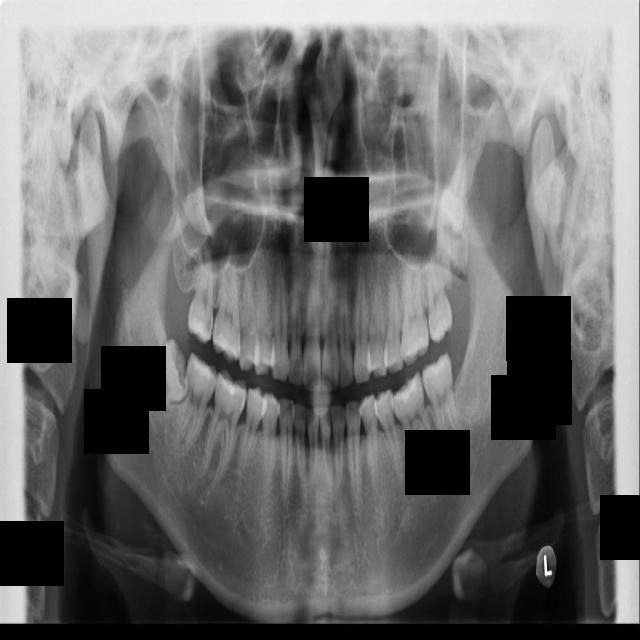52: (206, 318, 211, 332)
73: (620, 592, 628, 602)
BioHorizons Implant: (421, 233, 455, 345)
BioLife Implant: (439, 155, 466, 236)
Blue Sky Bio Implant: (419, 351, 464, 453)
Caries: (186, 237, 218, 345)
Implant: (172, 350, 222, 458)
Keystone Dental Implant: (135, 337, 205, 423)
